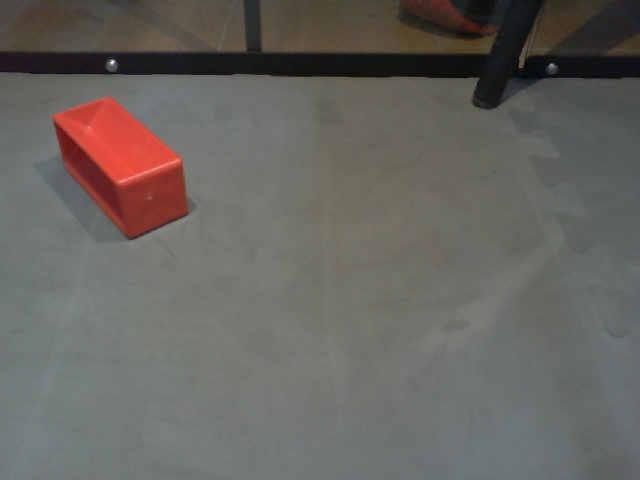RedSample: (51, 95, 190, 242)
